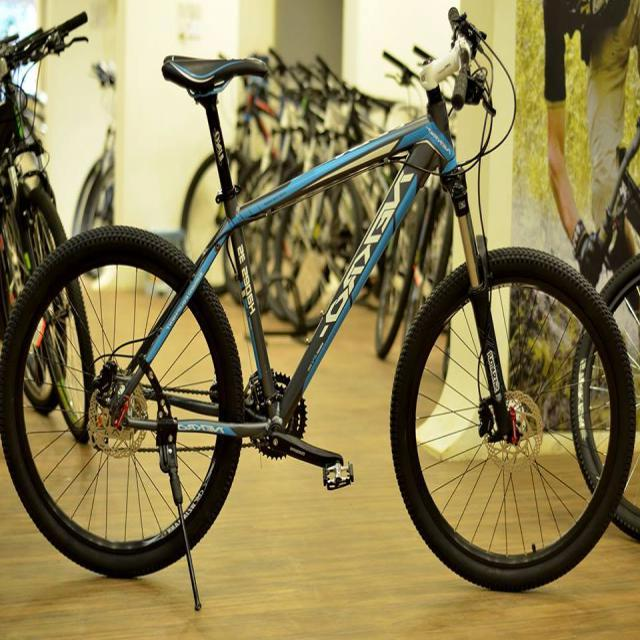Bicycle: (6, 4, 627, 616)
